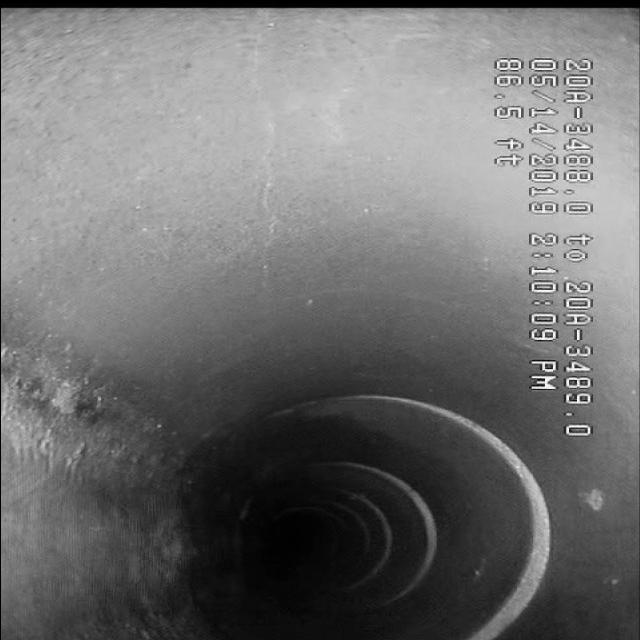Crack: (225, 29, 320, 270)
